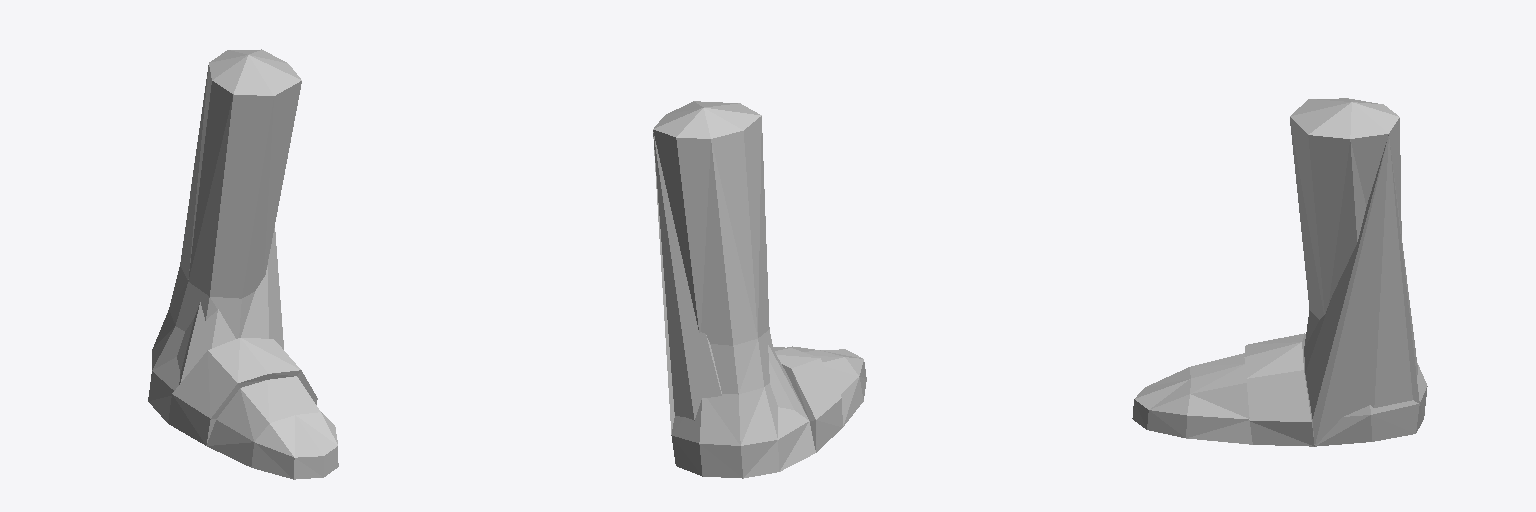
The model's file is right_leg-19_anubismon.blend.obj.
3 views of the same model, side by side, from view 1: azimuth 30°, elevation 25°; view 2: azimuth 150°, elevation 25°; view 3: azimuth 270°, elevation 25° (orthographic).
Parts seen in each view (by area): view 1: right_leg-19_anubismon.blend_Mesh.018; view 2: right_leg-19_anubismon.blend_Mesh.018; view 3: right_leg-19_anubismon.blend_Mesh.018.
Part boxes in pixels (x1,y1,x2,y2): right_leg-19_anubismon.blend_Mesh.018: (148,49,338,479); right_leg-19_anubismon.blend_Mesh.018: (653,101,866,478); right_leg-19_anubismon.blend_Mesh.018: (1132,98,1427,446).
Bounding box in the file's own units: 0.1249 × 0.2946 × 0.2348.